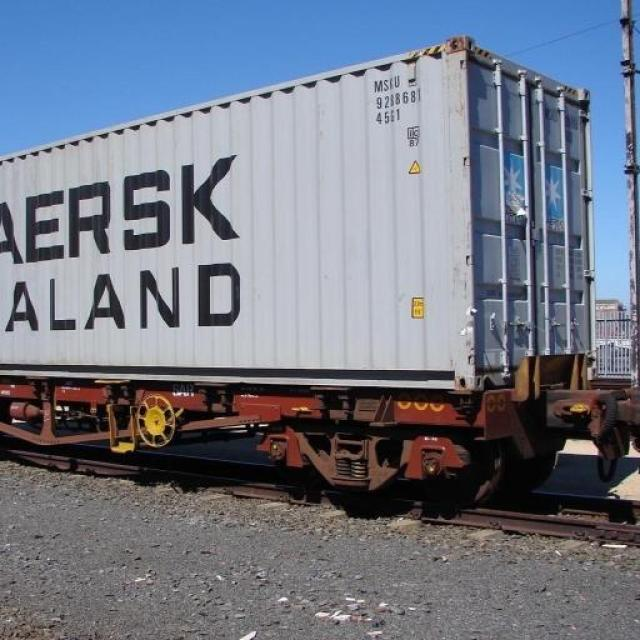ISO: (376, 108, 402, 122)
container_number: (374, 66, 427, 105)
